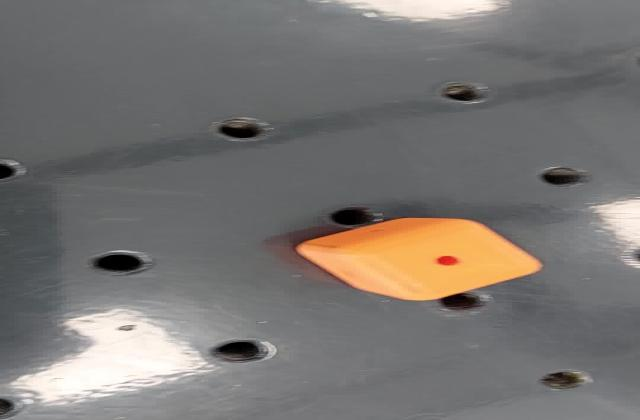cube: (292, 217, 550, 304)
